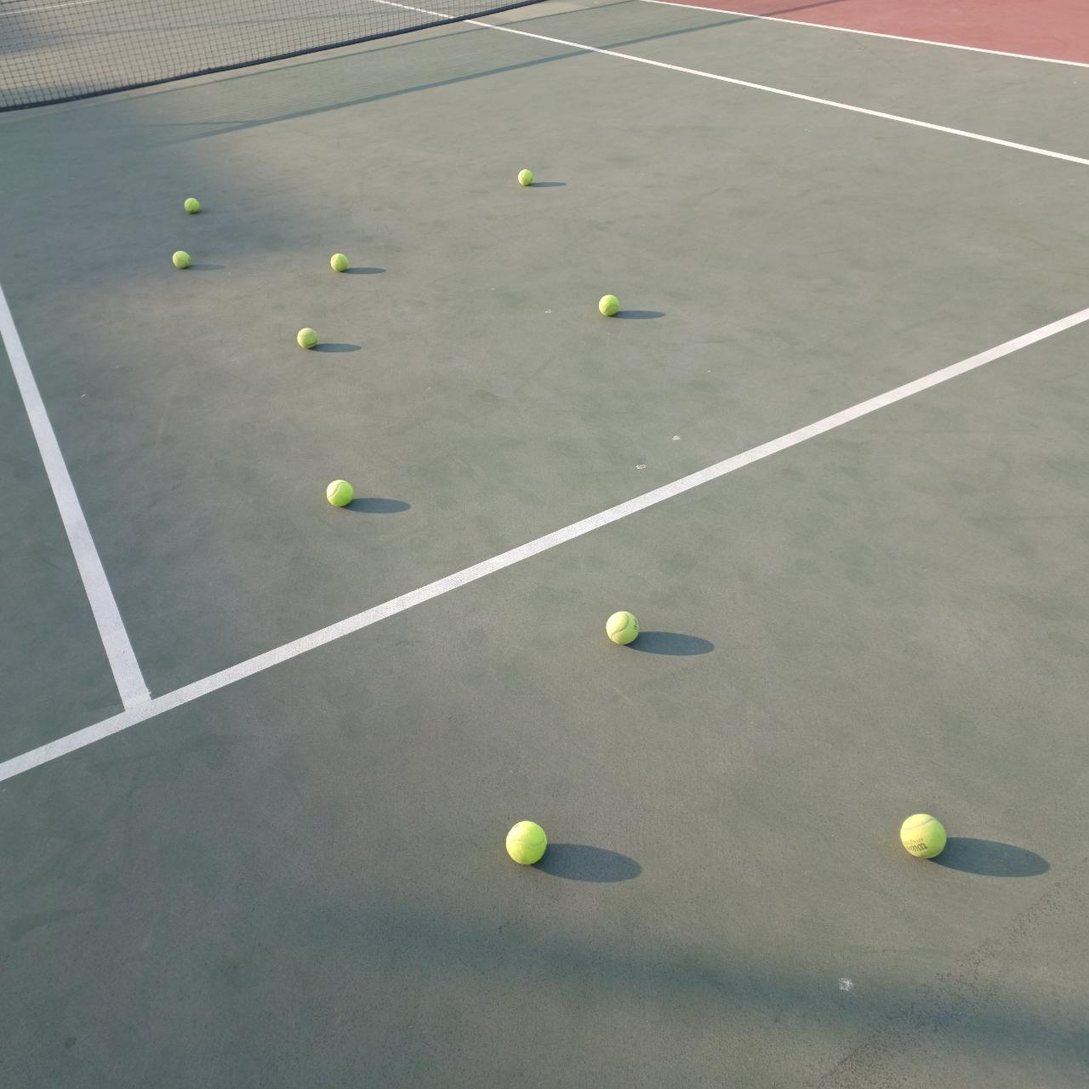tennis-ball: (898, 810, 946, 859), (504, 818, 548, 865), (604, 608, 639, 645), (324, 476, 354, 507), (294, 325, 318, 349), (596, 292, 619, 316), (170, 248, 191, 269), (328, 250, 348, 272), (182, 195, 201, 213), (516, 167, 533, 185)
